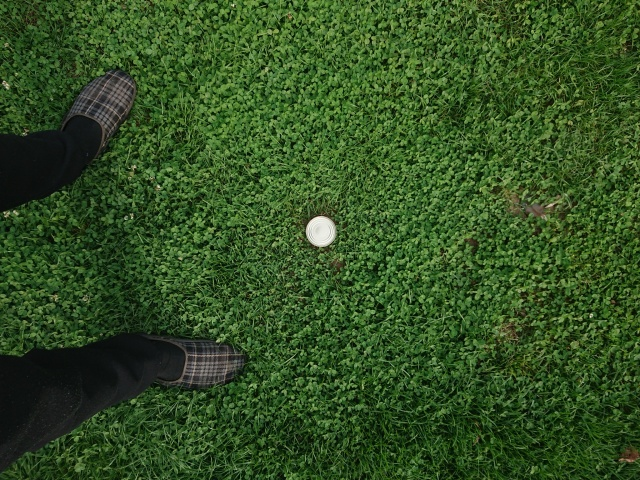Podravka Luncheon Meat 150g: (303, 213, 339, 250)
